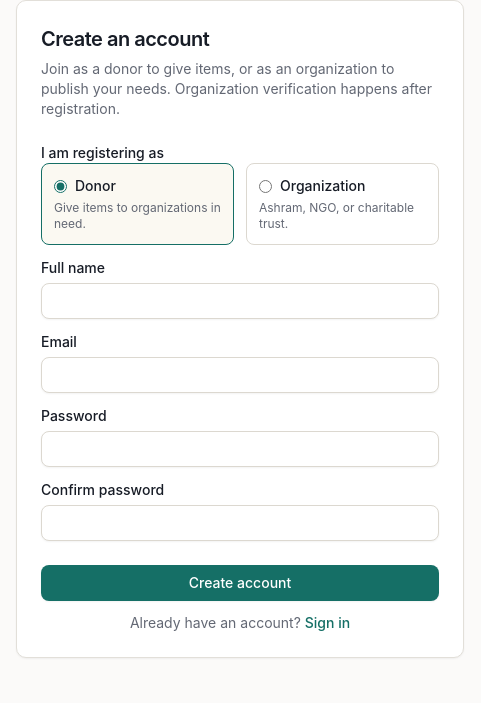
Test: RegisterPage › blocks submission with a short password
Type "Demo Donor" into the field labelled "Full name" at (240, 301), box [41, 283, 439, 319]
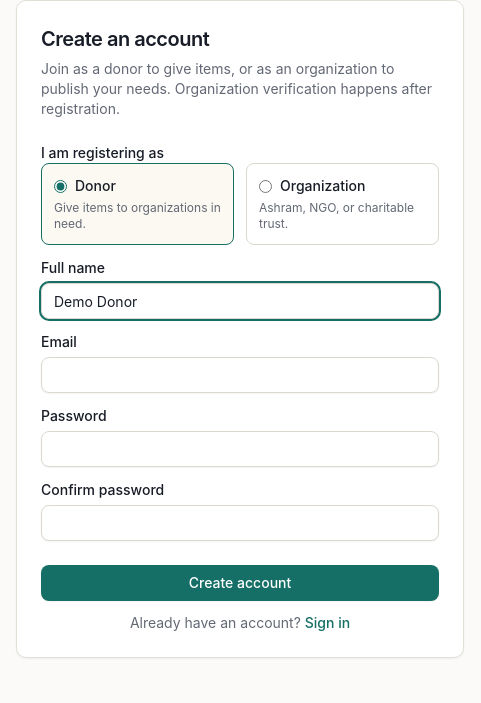
Type "donor@example.com" into the field labelled "Email" at (240, 375), box [41, 357, 439, 393]
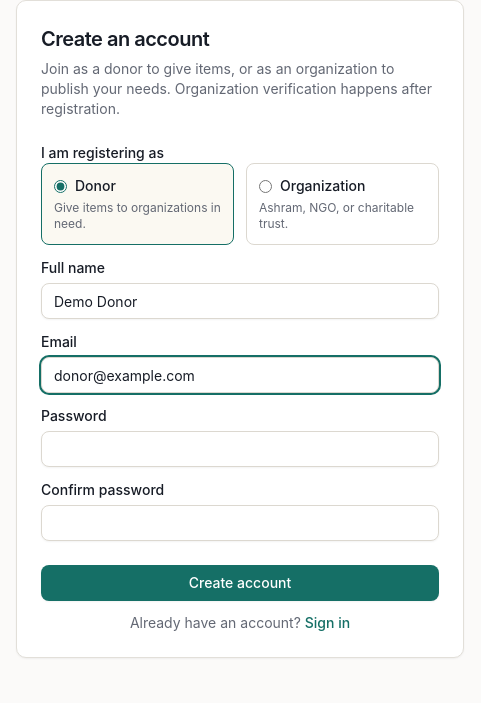
Type "short" into the password field labelled "Password" at (240, 449), box [41, 431, 439, 467]
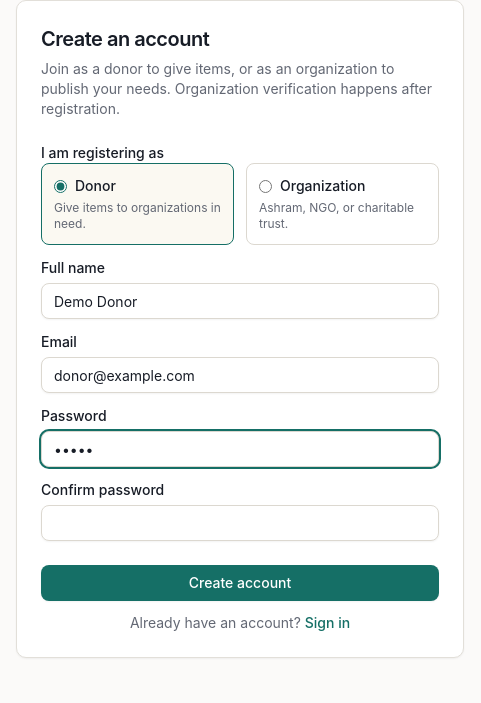
Type "short" into the password field labelled "Confirm password" at (240, 523), box [41, 505, 439, 541]
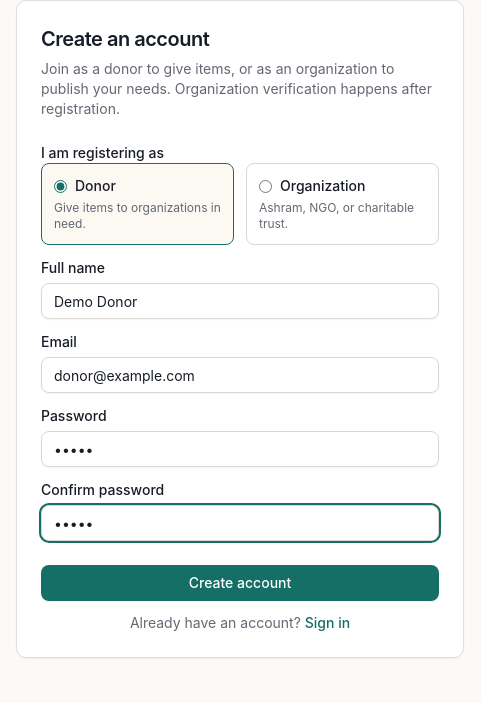
Click the button "Create account" at (240, 583), box [41, 565, 439, 601]
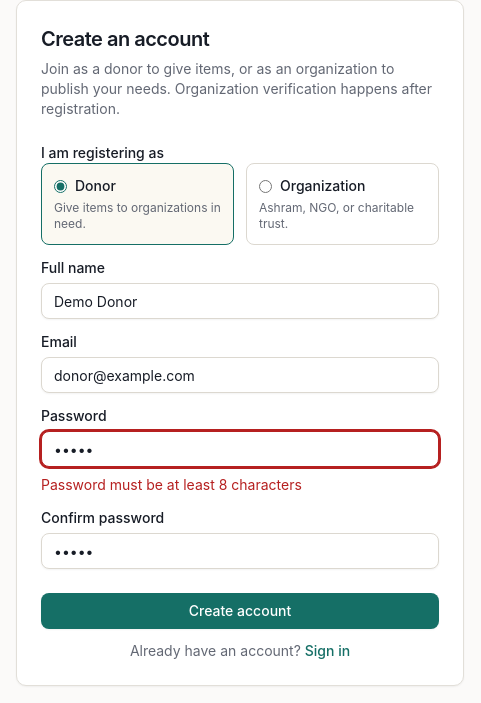
Expected: the text "Password must be at least 8 characters" is shown, [41, 476, 302, 493]
